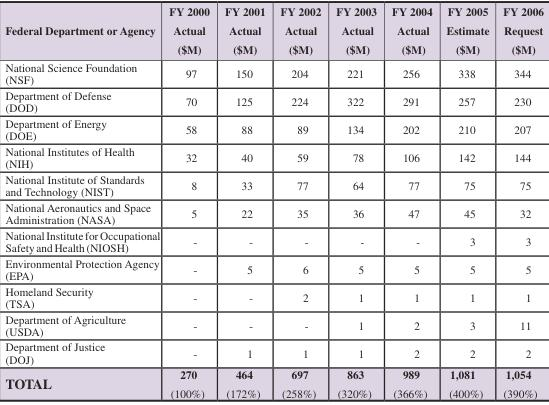table: (4, 4, 543, 399)
table column: (4, 4, 163, 399), (438, 4, 495, 399), (216, 4, 272, 399), (327, 4, 383, 399), (272, 4, 327, 399), (383, 4, 438, 399), (163, 4, 216, 399), (495, 4, 543, 399)
table column header: (4, 4, 543, 58)
table row: (4, 4, 543, 58), (4, 366, 543, 399), (4, 58, 543, 87), (4, 87, 543, 115), (4, 115, 543, 143), (4, 143, 543, 171), (4, 171, 543, 199), (4, 199, 543, 227), (4, 227, 543, 255), (4, 255, 543, 283), (4, 283, 543, 311), (4, 338, 543, 366), (4, 311, 543, 338)
